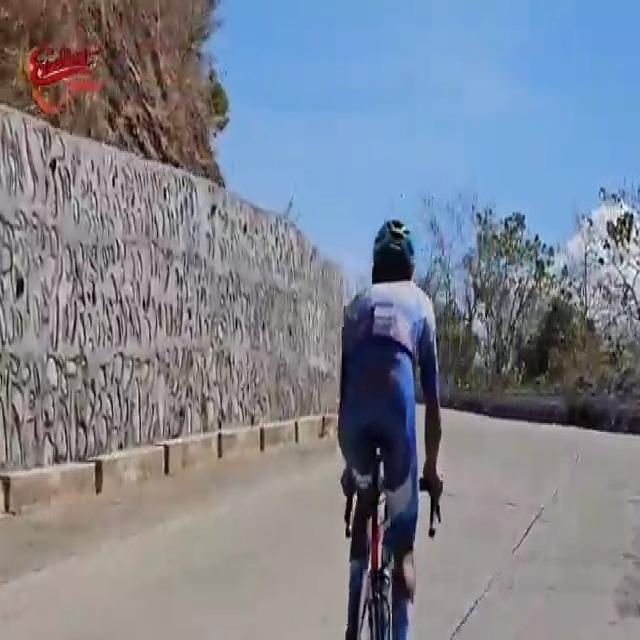bike: (336, 212, 446, 640)
